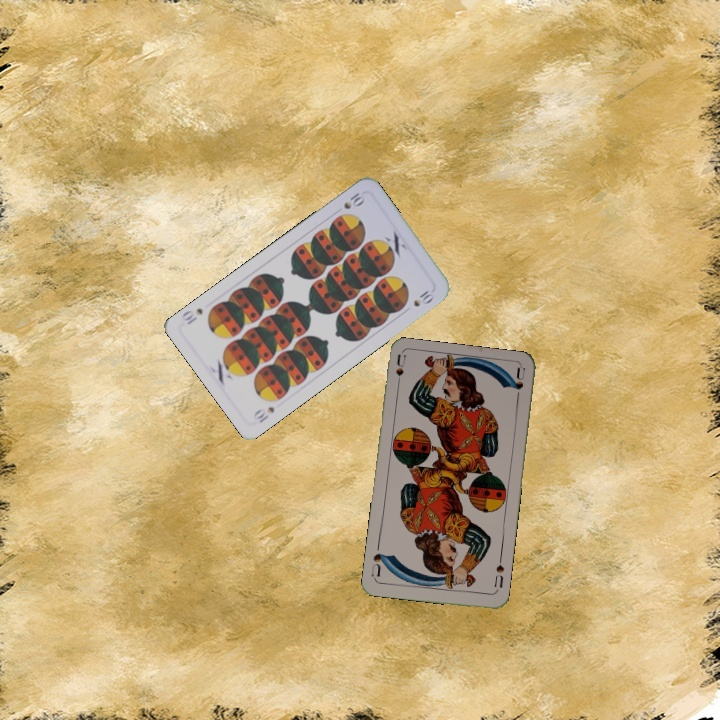S10: (339, 188, 368, 212), (249, 402, 277, 426)
SU: (392, 352, 409, 393), (490, 554, 507, 594)
